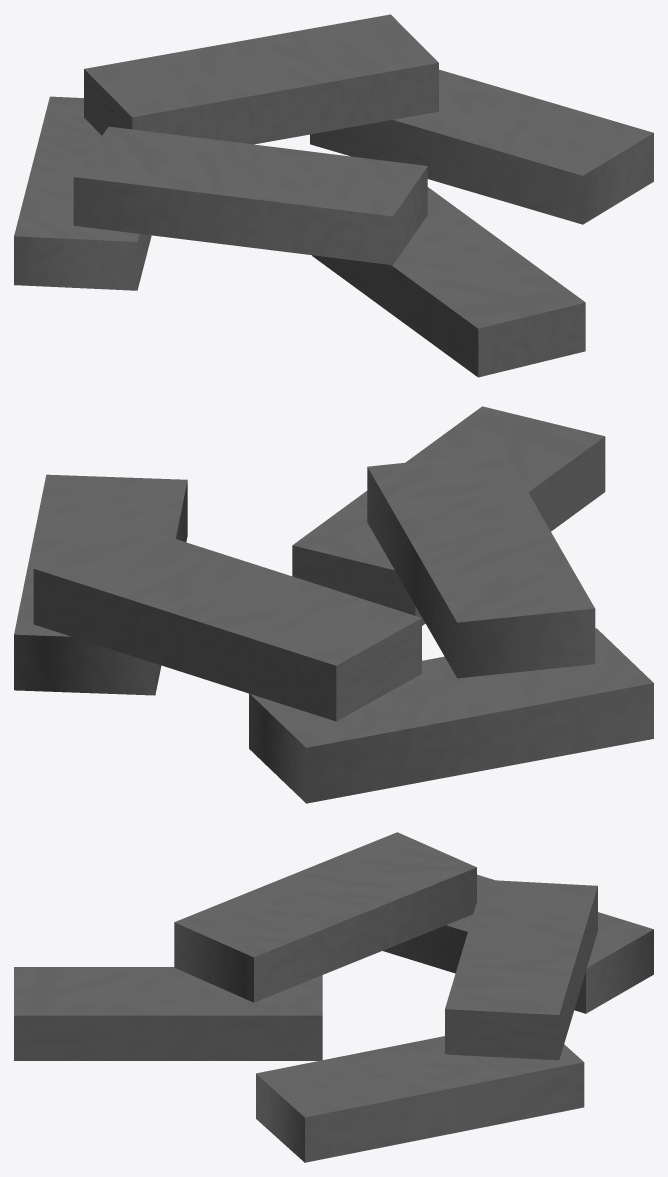
Rendered from Bricks.fbx.
The picture shows the model from 3 angles, top to bottom: view 1: azimuth 30°, elevation 25°; view 2: azimuth 150°, elevation 25°; view 3: azimuth 270°, elevation 25°; orthographic projection. The views are drawn at different scales.
Visible parts, largest first — view 1: Cube.052; view 2: Cube.052; view 3: Cube.052.
Boxes of the visible parts, x1=… form: Cube.052: x1=14, y1=14, x2=653, y2=377; Cube.052: x1=14, y1=406, x2=653, y2=803; Cube.052: x1=14, y1=832, x2=653, y2=1162.
Bounding box in the file's own units: 149 × 23.68 × 152.
